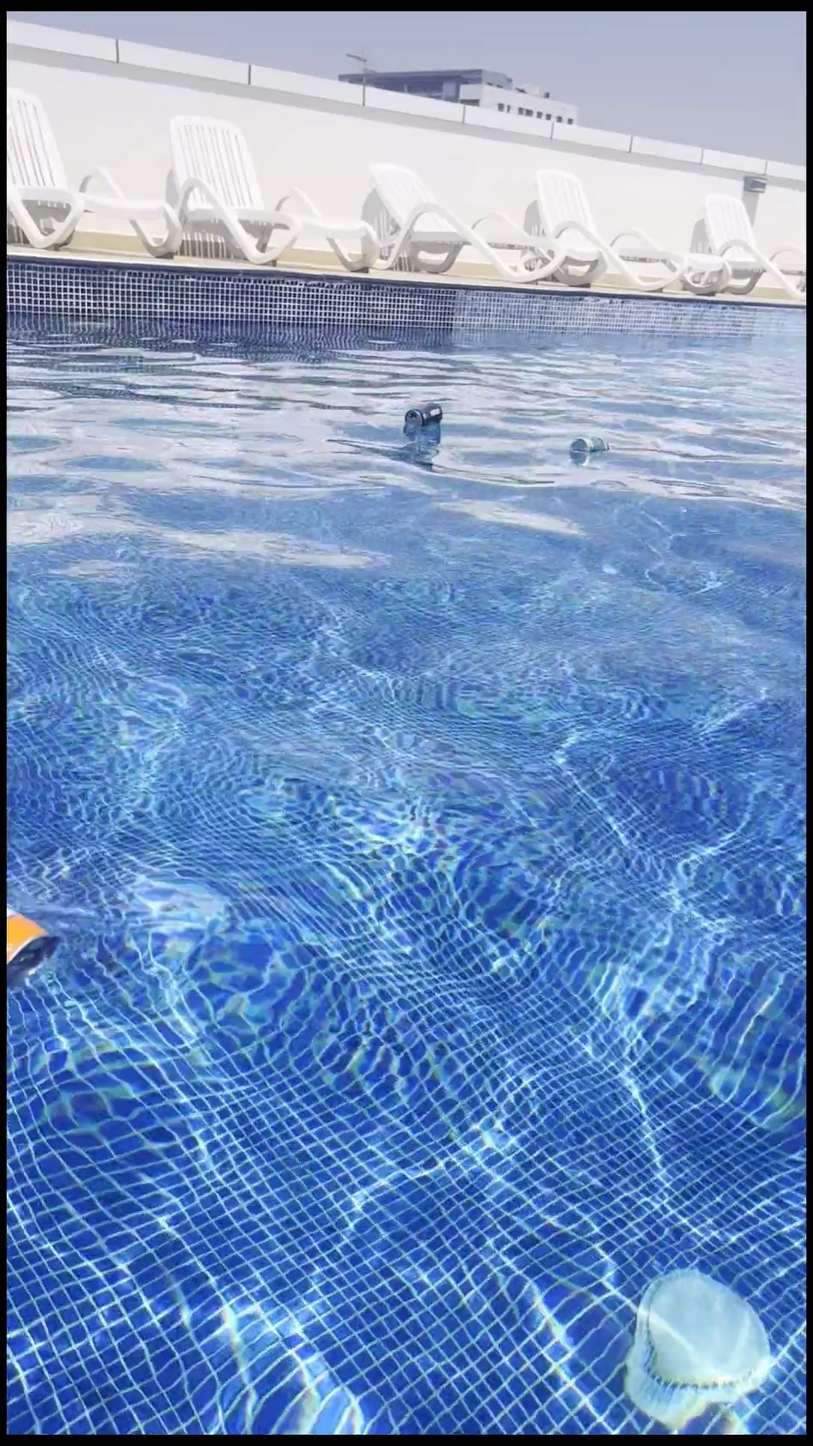debris: (8, 902, 54, 997), (398, 384, 444, 447), (566, 423, 608, 472)
